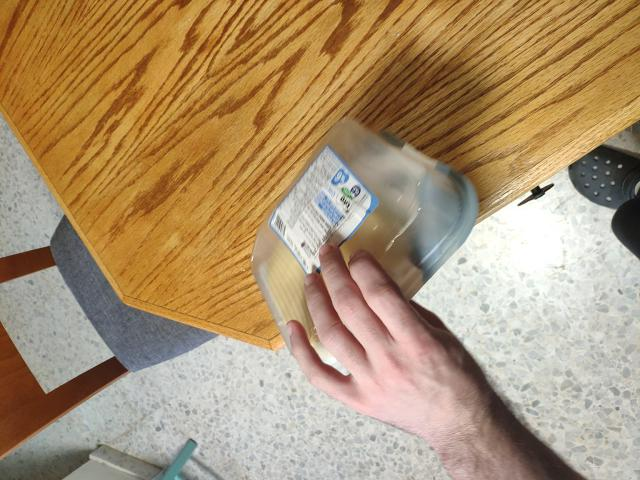cheese: (241, 113, 466, 396)
